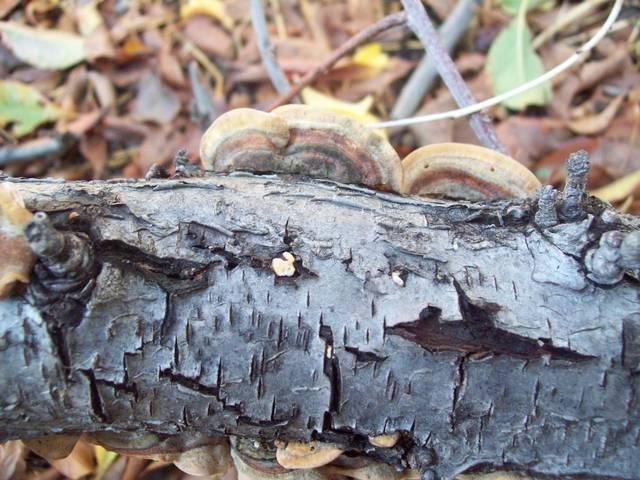Non-edible Mushroom: (197, 102, 403, 193), (399, 141, 543, 202)
